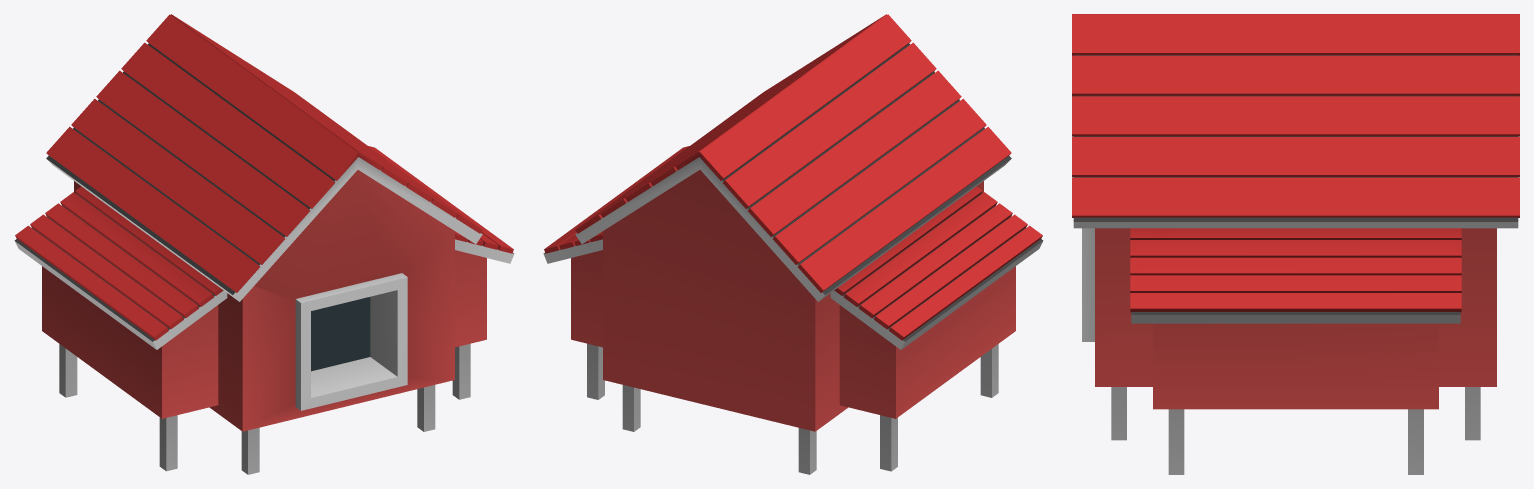
The model's file is coop_002.glb.
The picture shows the model from 3 angles, left to right: view 1: azimuth 30°, elevation 25°; view 2: azimuth 150°, elevation 25°; view 3: azimuth 270°, elevation 25°; orthographic projection. The views are drawn at different scales.
Parts seen in each view (by area): view 1: coop_002; view 2: coop_002; view 3: coop_002.
Part boxes in pixels (x1,y1,x2,y2): coop_002: [14, 14, 514, 474]; coop_002: [543, 14, 1043, 474]; coop_002: [1072, 14, 1519, 474].
Size of the model in its own units: 2.05 by 1.69 by 1.85.
Materials: 1 (1 with a texture image).
